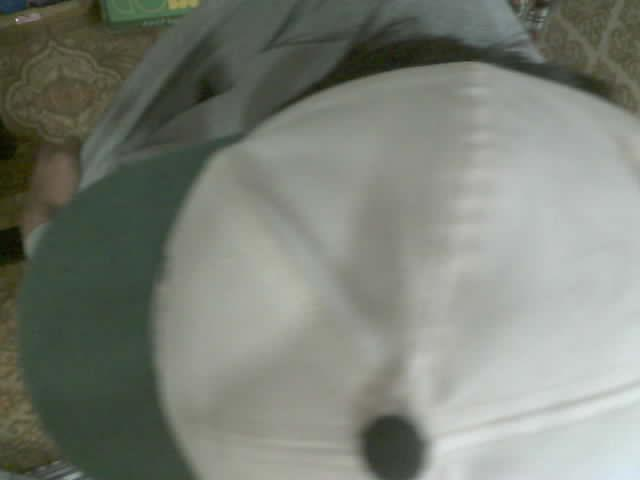cap: (19, 62, 639, 479)
